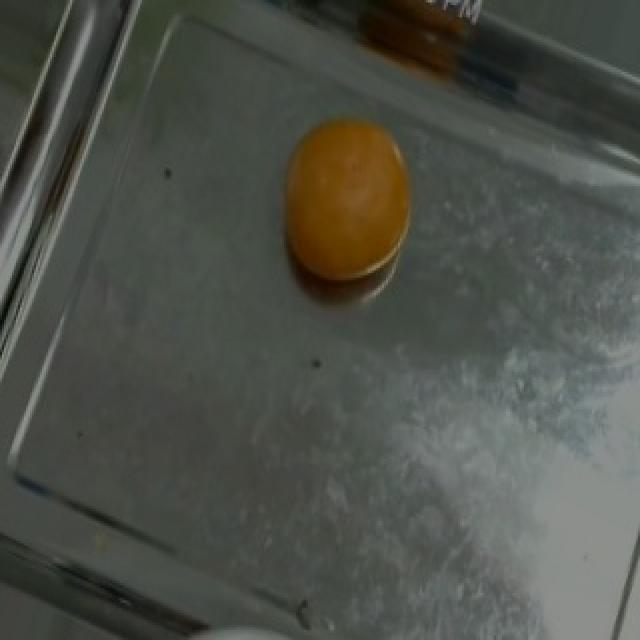Fruit: (258, 94, 434, 303)
